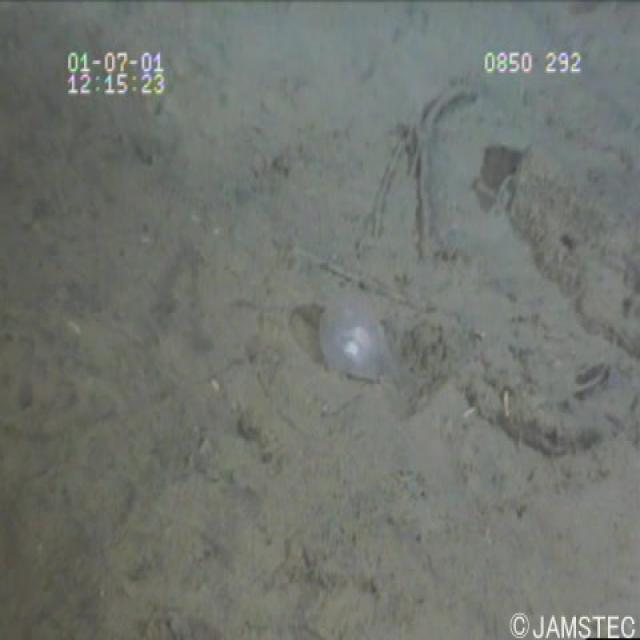plastic: (311, 277, 405, 407)
